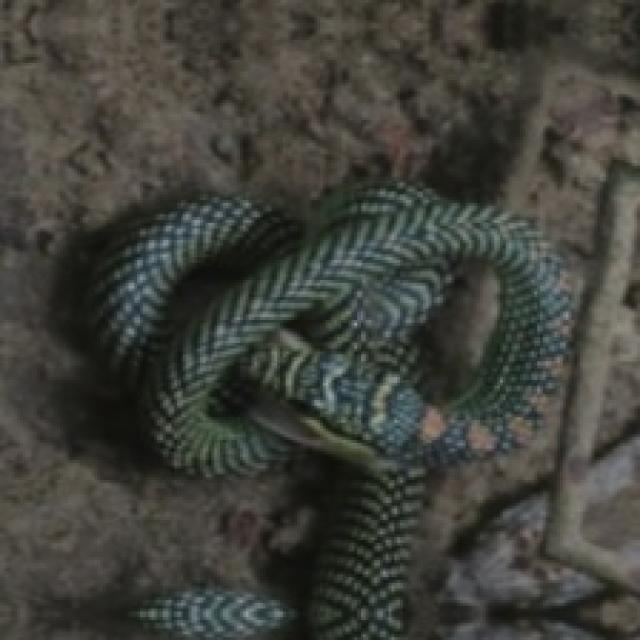paradise tree snake: (83, 183, 569, 637)
